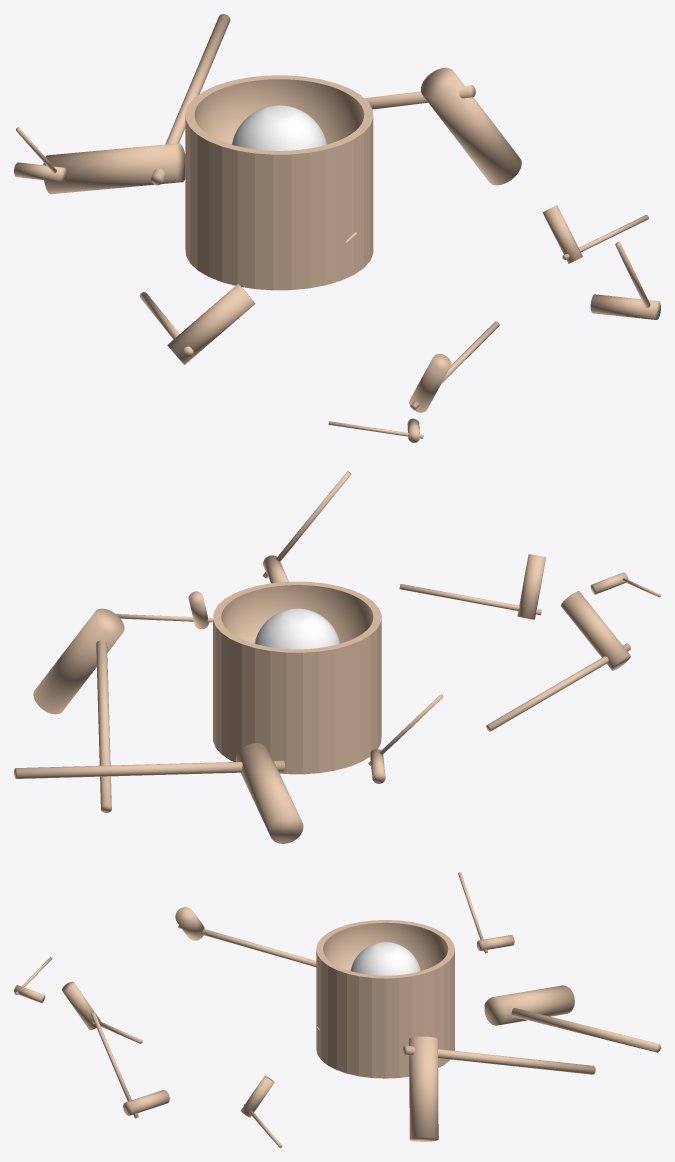
Rendered from mochi.glb.
The picture shows the model from 3 angles, top to bottom: view 1: azimuth 30°, elevation 25°; view 2: azimuth 150°, elevation 25°; view 3: azimuth 270°, elevation 25°; orthographic projection. The views are drawn at different scales.
Visible parts, largest first — view 1: 円柱, 円柱.016, 円柱.001, 球, 円柱.006, 円柱.015, 円柱.004, 円柱.011, 円柱.013, 円柱.002, 円柱.007; view 2: 円柱, 円柱.001, 円柱.016, 円柱.015, 球, 円柱.006, 円柱.002, 円柱.011, 円柱.005, 円柱.012, 円柱.003, 円柱.013; view 3: 円柱, 円柱.001, 円柱.016, 球, 円柱.002, 円柱.015, 円柱.005, 円柱.011, 円柱.004, 円柱.006, 円柱.013, 円柱.003 (+1 smaller).
Part boxes in pixels (left/top/right/bottom): 円柱: left=185, top=75, right=373, bottom=290; 円柱.016: left=43, top=143, right=185, bottom=194; 円柱.001: left=421, top=67, right=521, bottom=185; 球: left=231, top=105, right=326, bottom=150; 円柱.006: left=167, top=283, right=255, bottom=364; 円柱.015: left=151, top=14, right=230, bottom=185; 円柱.004: left=590, top=294, right=660, bottom=319; 円柱.011: left=409, top=354, right=451, bottom=412; 円柱.013: left=542, top=205, right=582, bottom=263; 円柱.002: left=365, top=85, right=475, bottom=109; 円柱.007: left=14, top=162, right=66, bottom=182; 円柱: left=213, top=581, right=381, bottom=774; 円柱.001: left=33, top=608, right=124, bottom=714; 円柱.016: left=235, top=743, right=303, bottom=843; 円柱.015: left=14, top=760, right=284, bottom=778; 球: left=254, top=608, right=339, bottom=649; 円柱.006: left=560, top=591, right=630, bottom=670; 円柱.002: left=96, top=640, right=111, bottom=812; 円柱.011: left=517, top=554, right=545, bottom=619; 円柱.005: left=486, top=643, right=630, bottom=731; 円柱.012: left=399, top=584, right=541, bottom=615; 円柱.003: left=262, top=471, right=351, bottom=578; 円柱.013: left=188, top=591, right=208, bottom=629; 円柱: left=316, top=920, right=454, bottom=1078; 円柱.001: left=409, top=1036, right=438, bottom=1141; 円柱.016: left=484, top=985, right=574, bottom=1025; 球: left=350, top=942, right=420, bottom=975; 円柱.002: left=402, top=1045, right=595, bottom=1074; 円柱.015: left=484, top=1002, right=660, bottom=1052; 円柱.005: left=178, top=925, right=316, bottom=966; 円柱.011: left=62, top=981, right=100, bottom=1029; 円柱.004: left=123, top=1090, right=169, bottom=1115; 円柱.006: left=175, top=907, right=204, bottom=940; 円柱.013: left=240, top=1076, right=274, bottom=1117; 円柱.003: left=91, top=1012, right=138, bottom=1118.
Size of what is drawn, in the model's own units: 12.75 by 3.37 by 18.04.
